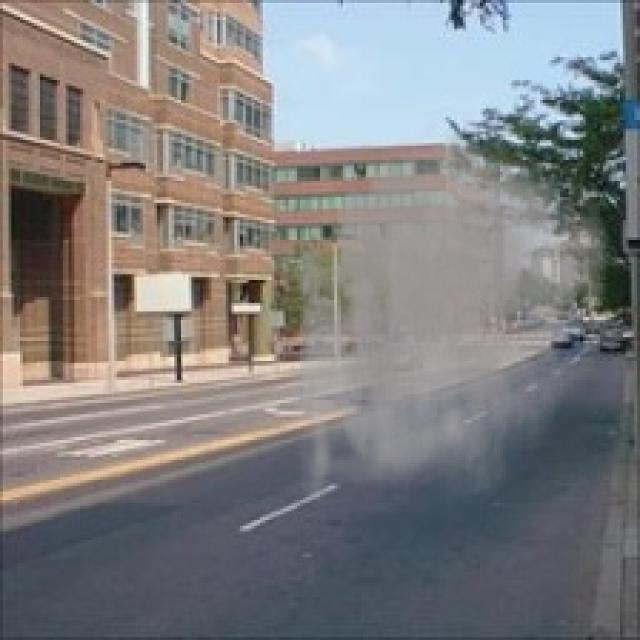smoke: (271, 112, 620, 517)
